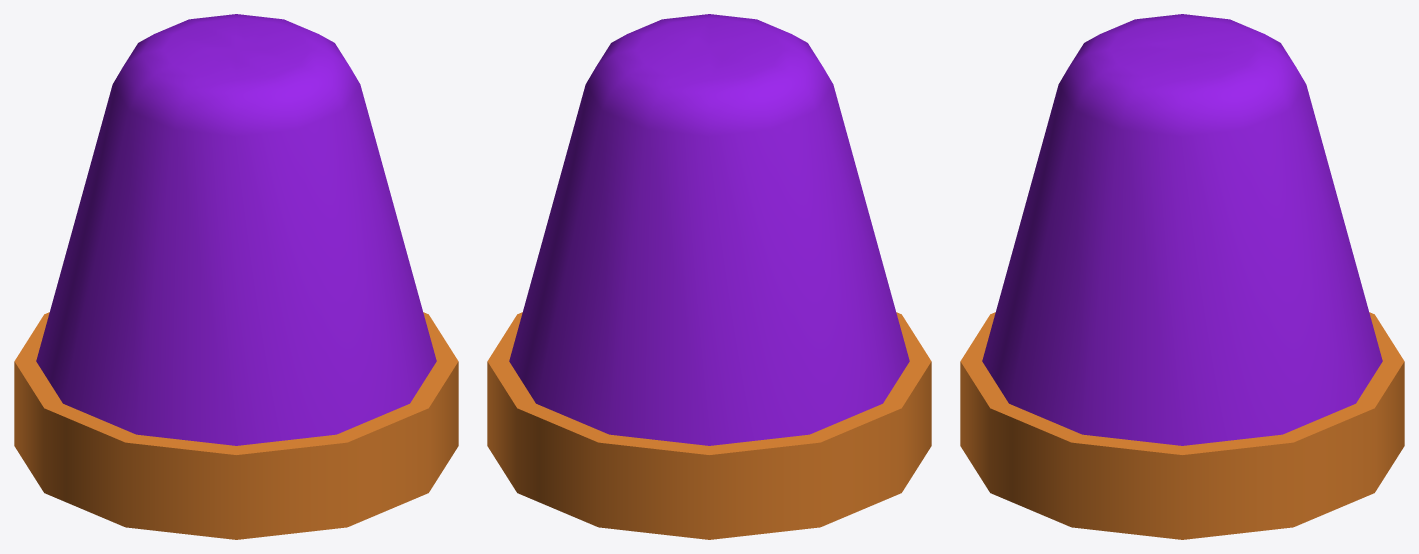
Rendered from Alarm.fbx.
The picture shows the model from 3 angles, left to right: view 1: azimuth 30°, elevation 25°; view 2: azimuth 150°, elevation 25°; view 3: azimuth 270°, elevation 25°; orthographic projection.
Visible parts, largest first — view 1: Cylinder.023, Cylinder.021; view 2: Cylinder.023, Cylinder.021; view 3: Cylinder.023, Cylinder.021.
Boxes of the visible parts, bbox=[...] form: Cylinder.023: bbox=[36, 14, 436, 445]; Cylinder.021: bbox=[14, 312, 458, 539]; Cylinder.023: bbox=[509, 14, 909, 445]; Cylinder.021: bbox=[487, 312, 931, 539]; Cylinder.023: bbox=[982, 14, 1382, 445]; Cylinder.021: bbox=[960, 312, 1404, 539].
Bounding box in the file's own units: 0.4677 × 0.461 × 0.4677.
